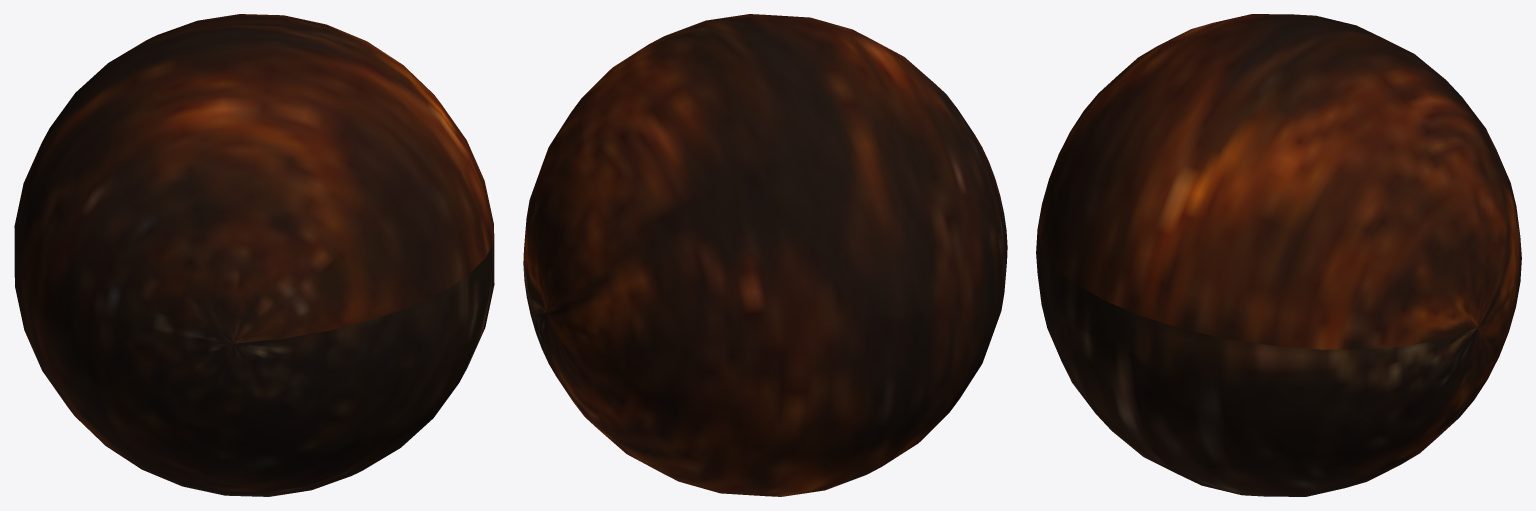
Rendered from Skydome_Part_Cell.fbx.
3 views of the same model, side by side, from view 1: azimuth 30°, elevation 25°; view 2: azimuth 150°, elevation 25°; view 3: azimuth 270°, elevation 25° (orthographic).
Visible parts, largest first — view 1: Skydome_Part_cell.002, Skydome_Part_cell.006, Skydome_Part_cell.007, Skydome_Part_cell.017, Skydome_Part_cell, Skydome_Part_cell.016, Skydome_Part_cell.003, Skydome_Part_cell.014, Skydome_Part_cell.011, Skydome_Part_cell.012, Skydome_Part_cell.010; view 2: Skydome_Part_cell.002, Skydome_Part_cell.013, Skydome_Part_cell.012, Skydome_Part_cell.014, Skydome_Part_cell.004, Skydome_Part_cell.018, Skydome_Part_cell.016, Skydome_Part_cell.009, Skydome_Part_cell.007; view 3: Skydome_Part_cell.012, Skydome_Part_cell.016, Skydome_Part_cell.010, Skydome_Part_cell.015, Skydome_Part_cell.020, Skydome_Part_cell, Skydome_Part_cell.004, Skydome_Part_cell.019, Skydome_Part_cell.003, Skydome_Part_cell.017, Skydome_Part_cell.013, Skydome_Part_cell.018 (+5 smaller).
Part boxes in pixels (left/top/right/bottom): Skydome_Part_cell.002: left=15, top=34, right=288, bottom=340; Skydome_Part_cell.006: left=99, top=282, right=403, bottom=488; Skydome_Part_cell.007: left=68, top=174, right=331, bottom=387; Skydome_Part_cell.017: left=270, top=89, right=436, bottom=308; Skydome_Part_cell: left=391, top=154, right=490, bottom=366; Skydome_Part_cell.016: left=254, top=29, right=458, bottom=158; Skydome_Part_cell.003: left=265, top=282, right=494, bottom=490; Skydome_Part_cell.014: left=14, top=214, right=266, bottom=496; Skydome_Part_cell.011: left=234, top=243, right=363, bottom=343; Skydome_Part_cell.012: left=114, top=14, right=371, bottom=59; Skydome_Part_cell.010: left=449, top=116, right=494, bottom=284; Skydome_Part_cell.002: left=771, top=22, right=1001, bottom=318; Skydome_Part_cell.013: left=533, top=233, right=799, bottom=464; Skydome_Part_cell.012: left=582, top=31, right=775, bottom=270; Skydome_Part_cell.014: left=683, top=304, right=992, bottom=496; Skydome_Part_cell.004: left=536, top=94, right=618, bottom=248; Skydome_Part_cell.018: left=523, top=182, right=569, bottom=320; Skydome_Part_cell.016: left=612, top=14, right=820, bottom=70; Skydome_Part_cell.009: left=530, top=315, right=687, bottom=479; Skydome_Part_cell.007: left=924, top=74, right=1007, bottom=334; Skydome_Part_cell.012: left=1273, top=28, right=1498, bottom=182; Skydome_Part_cell.016: left=1130, top=35, right=1303, bottom=211; Skydome_Part_cell.010: left=1123, top=211, right=1261, bottom=392; Skydome_Part_cell.015: left=1232, top=165, right=1358, bottom=385; Skydome_Part_cell.020: left=1265, top=259, right=1419, bottom=424; Skydome_Part_cell: left=1038, top=180, right=1147, bottom=340; Skydome_Part_cell.004: left=1332, top=174, right=1494, bottom=271; Skydome_Part_cell.019: left=1177, top=385, right=1343, bottom=477; Skydome_Part_cell.003: left=1041, top=304, right=1184, bottom=457; Skydome_Part_cell.017: left=1040, top=47, right=1187, bottom=234; Skydome_Part_cell.013: left=1436, top=143, right=1521, bottom=398; Skydome_Part_cell.018: left=1384, top=241, right=1485, bottom=383.
Size of the model in its own units: 29943 by 29809 by 29980.
